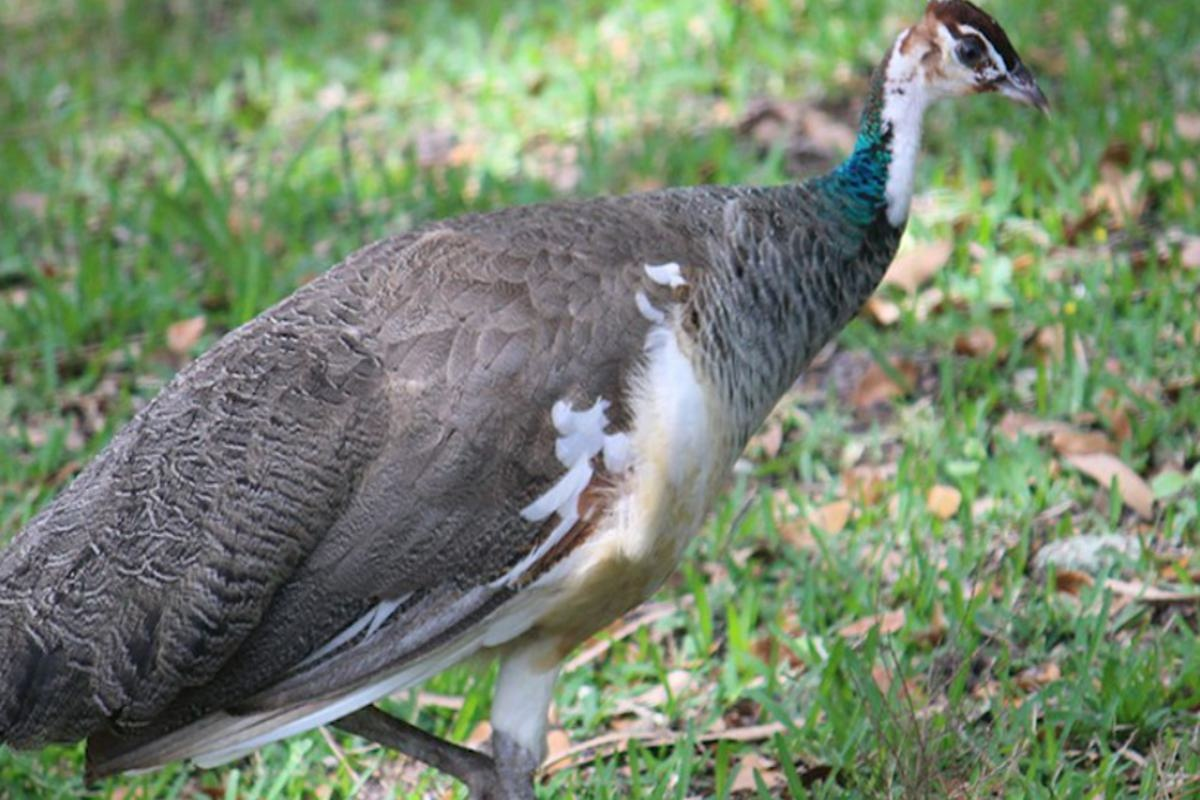peacock: (1, 8, 1084, 800)
